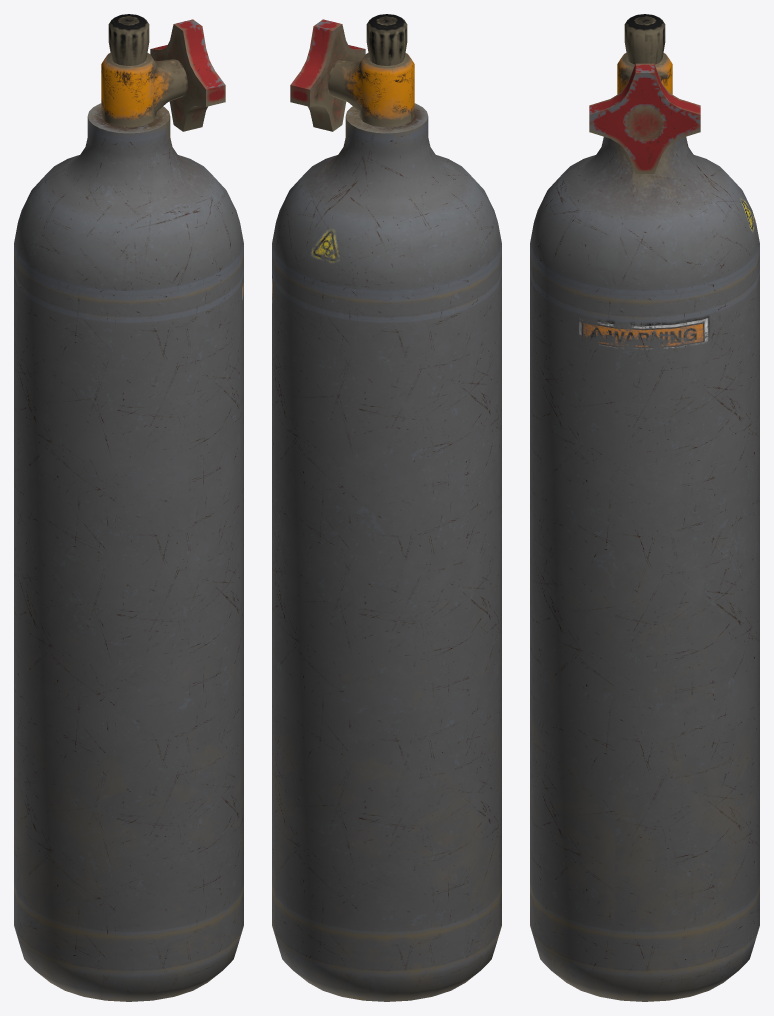
Rendered from SM_Gastank_01.glb.
The picture shows the model from 3 angles, left to right: view 1: azimuth 30°, elevation 25°; view 2: azimuth 150°, elevation 25°; view 3: azimuth 270°, elevation 25°; orthographic projection.
Visible parts, largest first — view 1: SM_Gastank_01; view 2: SM_Gastank_01; view 3: SM_Gastank_01.
Boxes of the visible parts, left/top/right/bottom form: SM_Gastank_01: left=14, top=14, right=243, bottom=1001; SM_Gastank_01: left=272, top=14, right=501, bottom=1001; SM_Gastank_01: left=530, top=14, right=759, bottom=1001.
Bounding box in the file's own units: 0.2 × 0.9114 × 0.2.
Materials: 1 (1 with a texture image).
